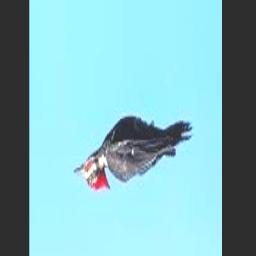Woodpecker: (75, 116, 194, 194)
